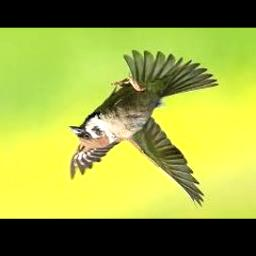Sparrow: (69, 50, 219, 209)
